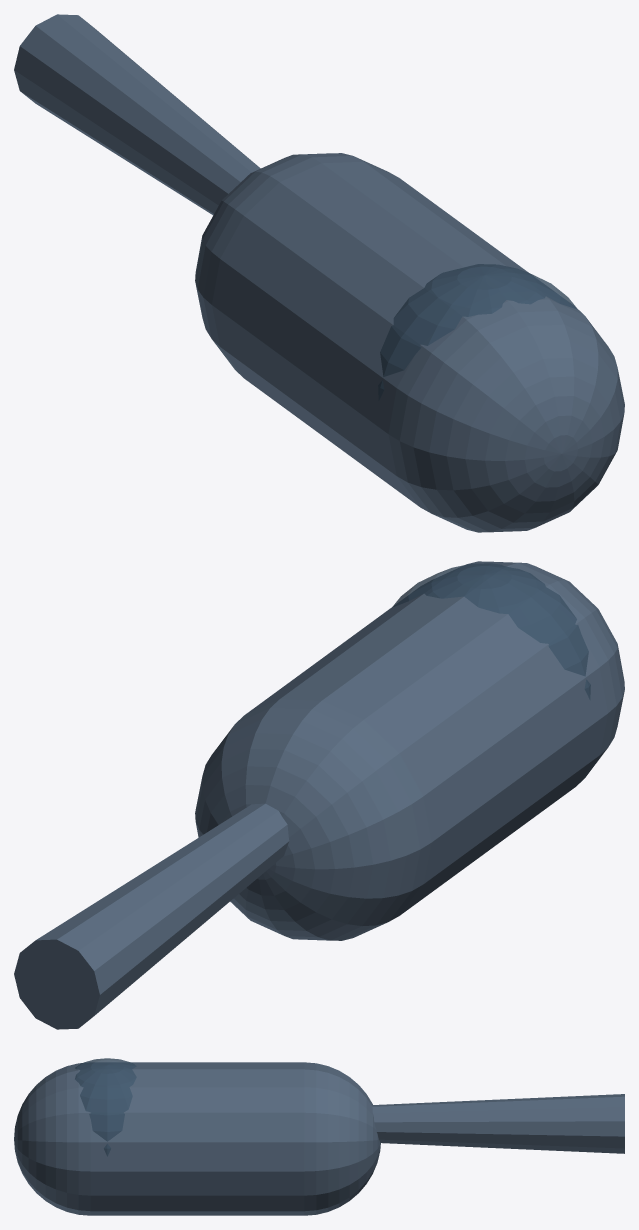
Rendered from prop_helicopter.glb.
3 views of the same model, one above another, from view 1: azimuth 30°, elevation 25°; view 2: azimuth 150°, elevation 25°; view 3: azimuth 270°, elevation 25° (orthographic). The views are drawn at different scales.
Visible parts, largest first — view 1: prop_helicopter; view 2: prop_helicopter; view 3: prop_helicopter.
Part boxes in pixels (x1,y1,x2,y2): prop_helicopter: (14,14,624,532); prop_helicopter: (14,561,624,1029); prop_helicopter: (14,1058,624,1215).
Size of the model in its own units: 2.3 by 2.37 by 9.15.
